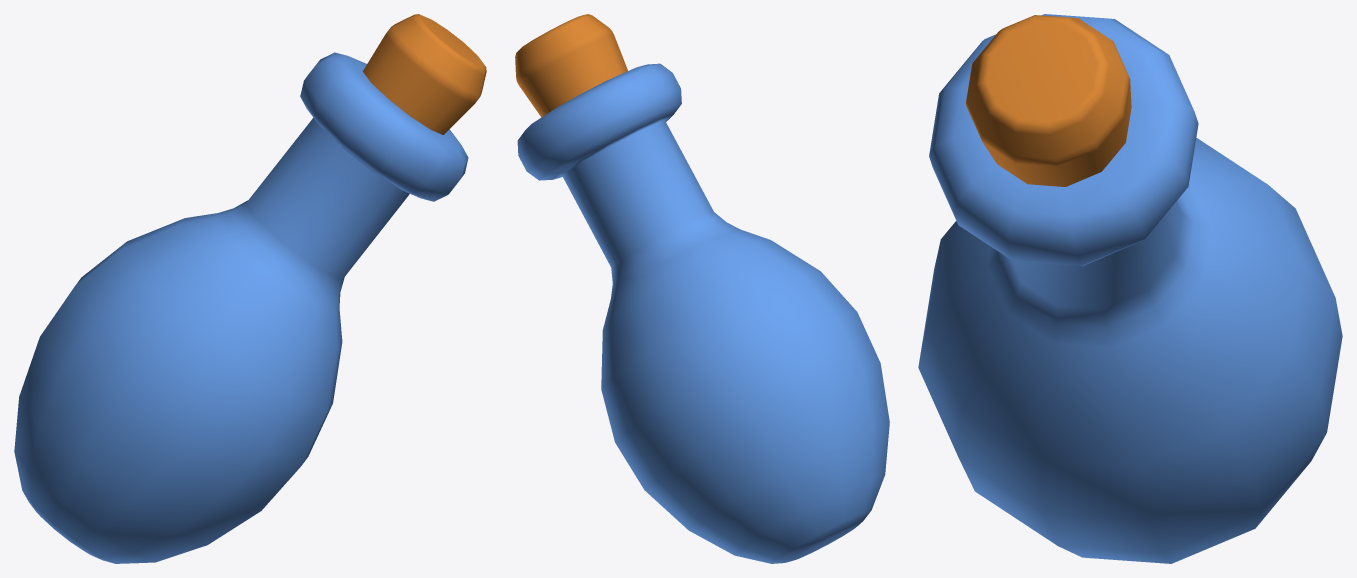
3 views of the same model, side by side, from view 1: azimuth 30°, elevation 25°; view 2: azimuth 150°, elevation 25°; view 3: azimuth 270°, elevation 25° (orthographic). The views are drawn at different scales.
Visible parts, largest first — view 1: model_1.150; view 2: model_1.150; view 3: model_1.150.
Part boxes in pixels (x1,y1,x2,y2): model_1.150: (14,14,486,563); model_1.150: (515,14,889,563); model_1.150: (918,14,1342,563).
Bounding box in the file's own units: 3.83 × 4.34 × 2.39.
